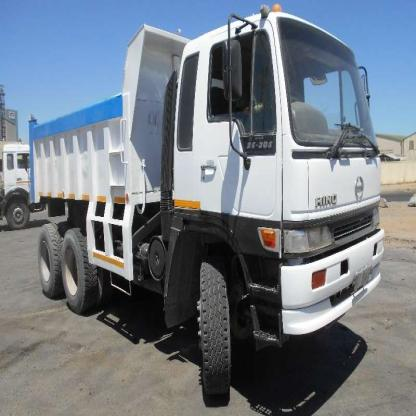dump_truck: (18, 6, 384, 415)
